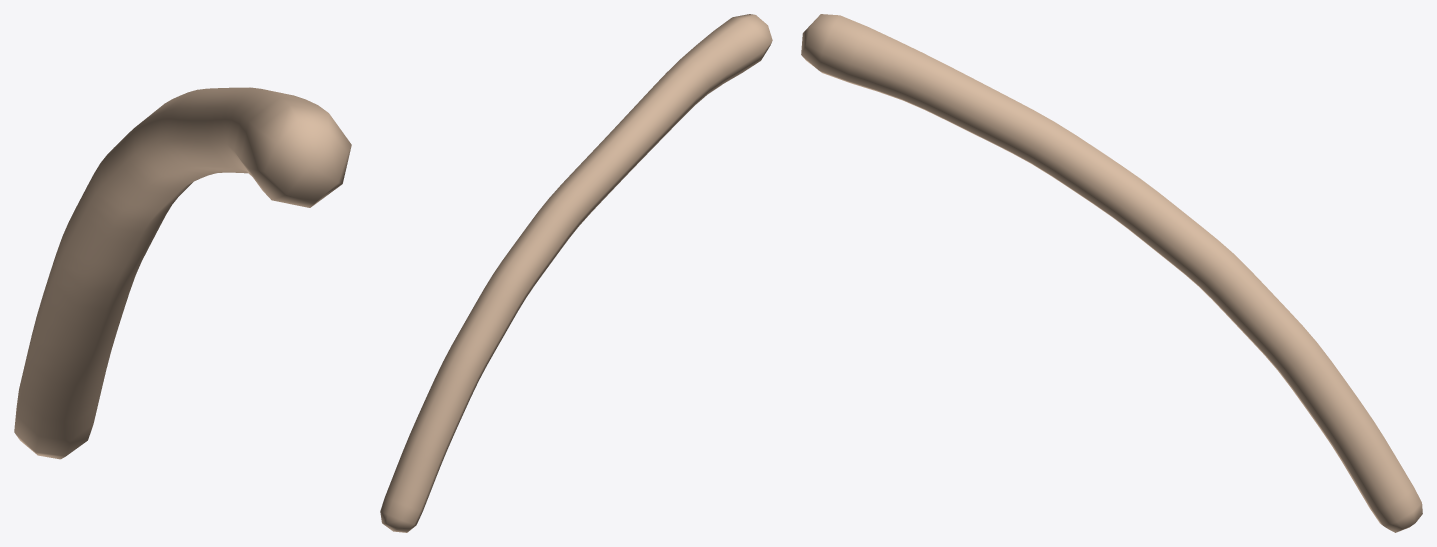
3 renders of one model, left to right at view 1: azimuth 30°, elevation 25°; view 2: azimuth 150°, elevation 25°; view 3: azimuth 270°, elevation 25°, orthographic. The views are drawn at different scales.
Visible parts, largest first — view 1: 右侧踇长伸肌腱鞘; view 2: 右侧踇长伸肌腱鞘; view 3: 右侧踇长伸肌腱鞘.
Part boxes in pixels (x1,y1,x2,y2): 右侧踇长伸肌腱鞘: [14, 87, 351, 459]; 右侧踇长伸肌腱鞘: [380, 14, 772, 532]; 右侧踇长伸肌腱鞘: [801, 14, 1422, 532].
Size of the model in its own units: 0.0391 by 0.0916 by 0.1152.
